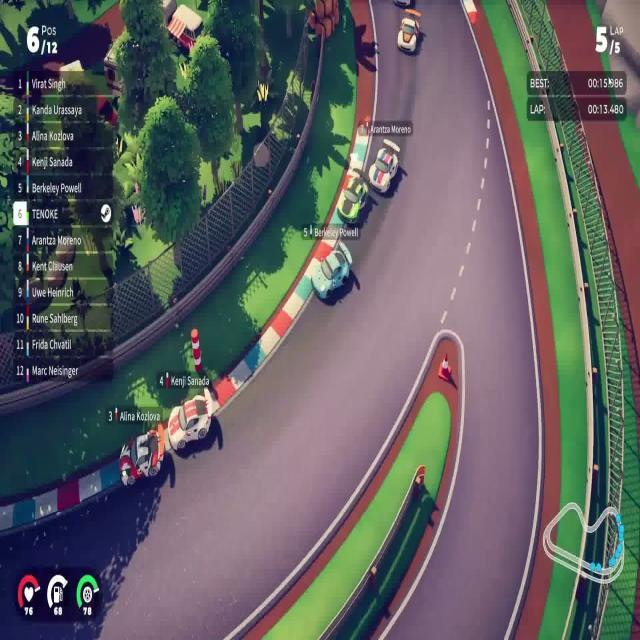car: (118, 422, 165, 488), (168, 386, 214, 453), (310, 238, 353, 302), (336, 169, 369, 225), (368, 138, 400, 194)
